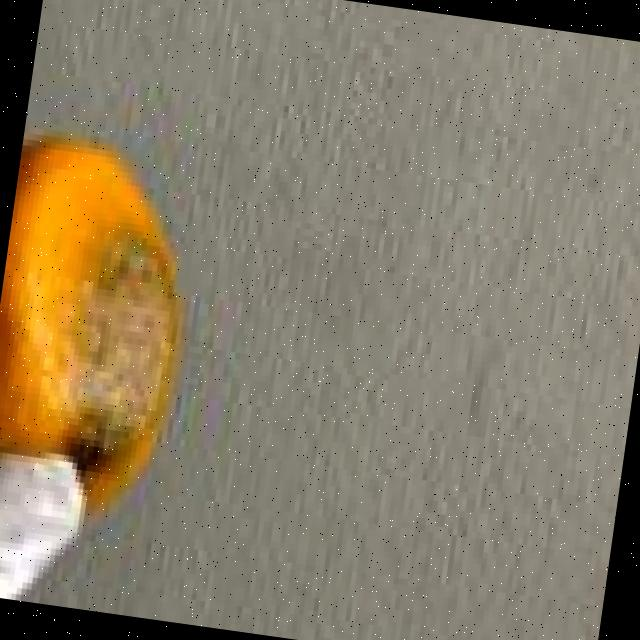Bad_Orange-0-1 day: (0, 135, 176, 523)
